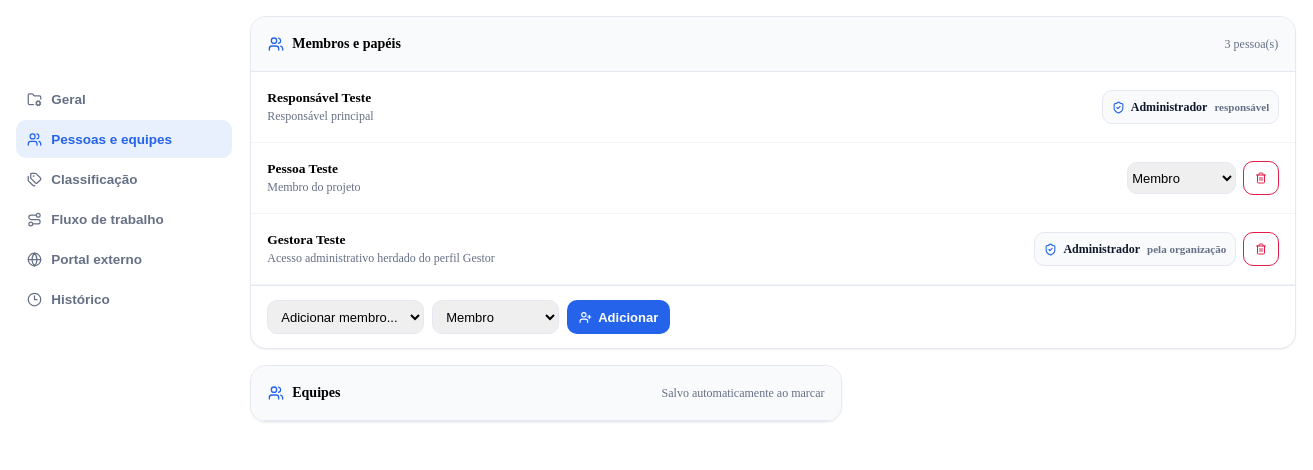
Test: configurações do projeto por categoria › não oferece papel ineficaz ao responsável e persiste o papel de membro comum
Expected: the text "Responsável Teste" is shown, [267,90,371,105]
Expected: the element titled "O responsável principal sempre administra o projeto" shows "Administrador", [1131,100,1208,114]
Select "Visualizador" in the dropdown named "Papel de Pessoa Teste" at (1182, 178), box [1127,162,1236,194]
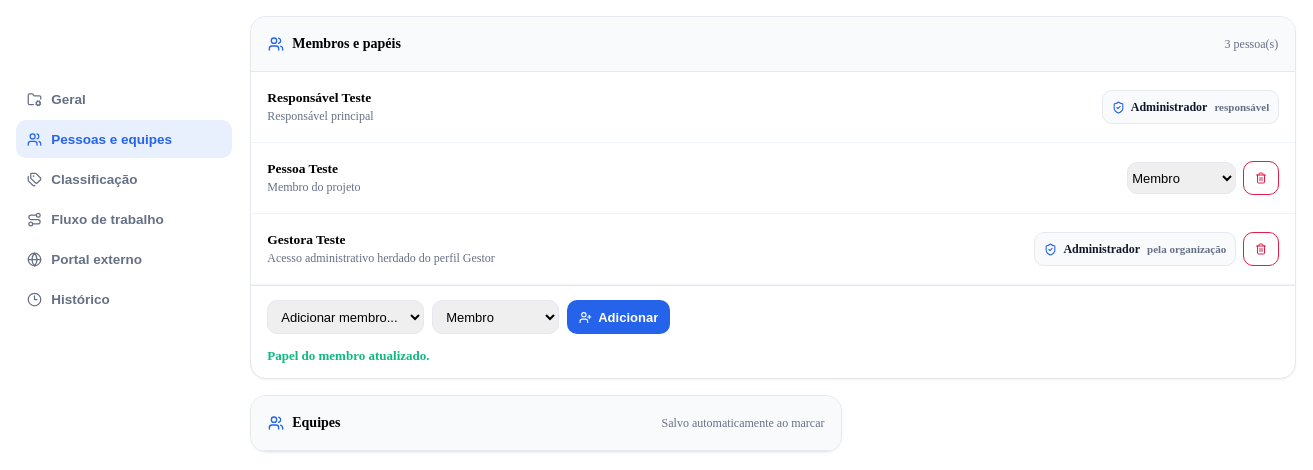
Expected: the message reads "Papel do membro atualizado.", [267,348,430,363]
